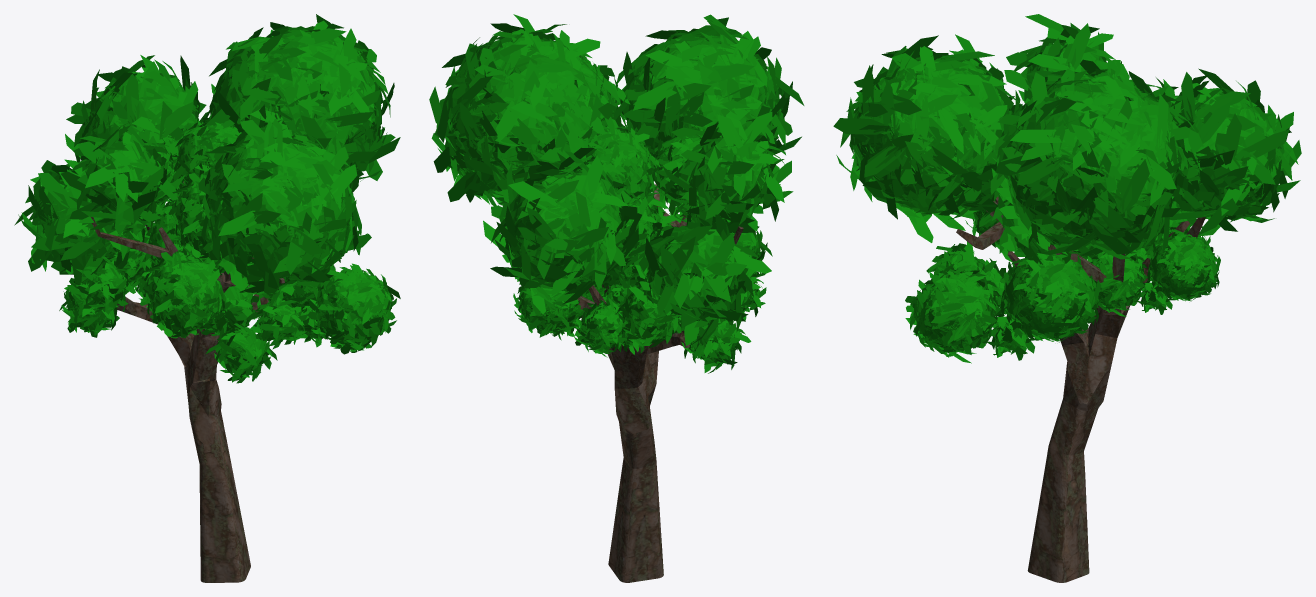
The model's file is Arbol (1).fbx.
3 views of the same model, side by side, from view 1: azimuth 30°, elevation 25°; view 2: azimuth 150°, elevation 25°; view 3: azimuth 270°, elevation 25° (orthographic). The views are drawn at different scales.
Visible parts, largest first — view 1: Volume, Volume.003, Cube, Volume.002, Volume.001; view 2: Volume, Cube, Volume.001, Volume.002, Volume.004; view 3: Volume, Volume.003, Cube, Volume.004, Volume.002.
Part boxes in pixels (bbox=[...]): Volume: bbox=[14, 14, 400, 300]; Volume.003: bbox=[197, 259, 400, 383]; Cube: bbox=[91, 181, 284, 582]; Volume.002: bbox=[59, 201, 231, 338]; Volume.001: bbox=[102, 117, 250, 259]; Volume: bbox=[429, 14, 804, 345]; Cube: bbox=[577, 184, 743, 582]; Volume.001: bbox=[585, 119, 730, 266]; Volume.002: bbox=[595, 206, 772, 373]; Volume.004: bbox=[513, 283, 644, 357]; Volume: bbox=[833, 14, 1301, 264]; Volume.003: bbox=[905, 241, 1101, 363]; Cube: bbox=[956, 196, 1205, 582]; Volume.004: bbox=[1087, 227, 1220, 316]; Volume.002: bbox=[965, 187, 1192, 262].
Size of the model in its own units: 986 by 1482 by 1144.
